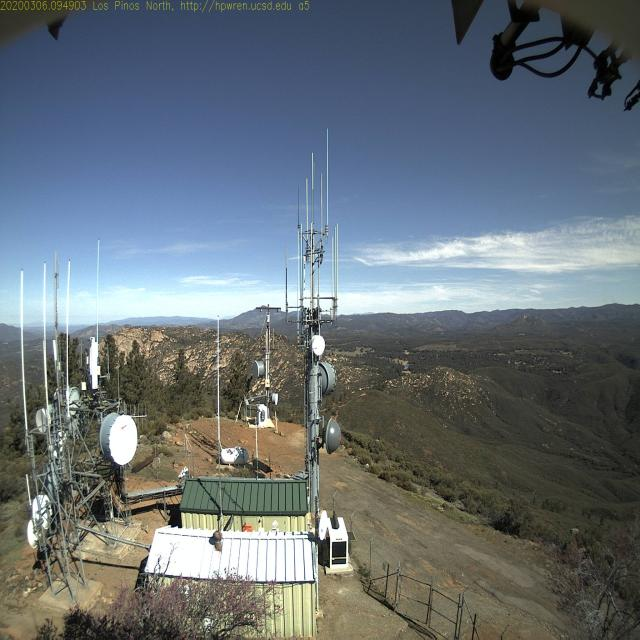smoke: (596, 282, 618, 322)
